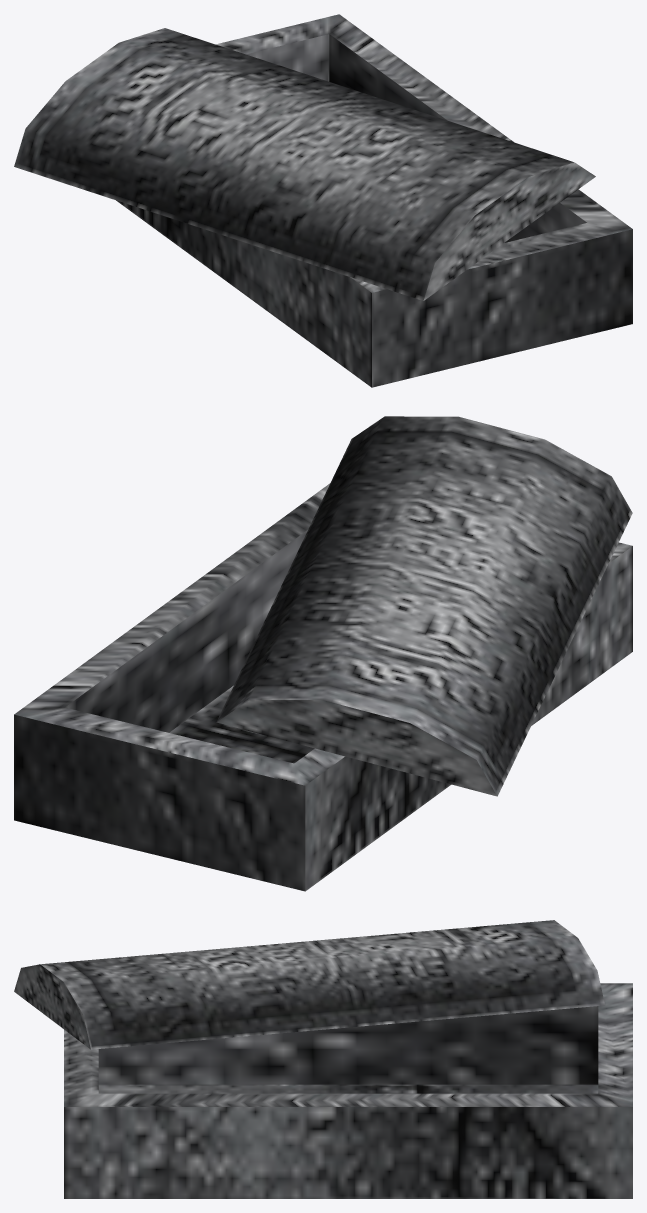
Rendered from Tomb01.glb.
3 renders of one model, top to bottom at view 1: azimuth 30°, elevation 25°; view 2: azimuth 150°, elevation 25°; view 3: azimuth 270°, elevation 25°, orthographic. The views are drawn at different scales.
Visible parts, largest first — view 1: Tomb01; view 2: Tomb01; view 3: Tomb01.
Part boxes in pixels (x1,y1,x2,y2): Tomb01: [14, 14, 632, 387]; Tomb01: [14, 416, 632, 891]; Tomb01: [14, 920, 632, 1198].
Bounding box in the file's own units: 1.8 × 0.7819 × 2.62.
Materials: 1 (1 with a texture image).
